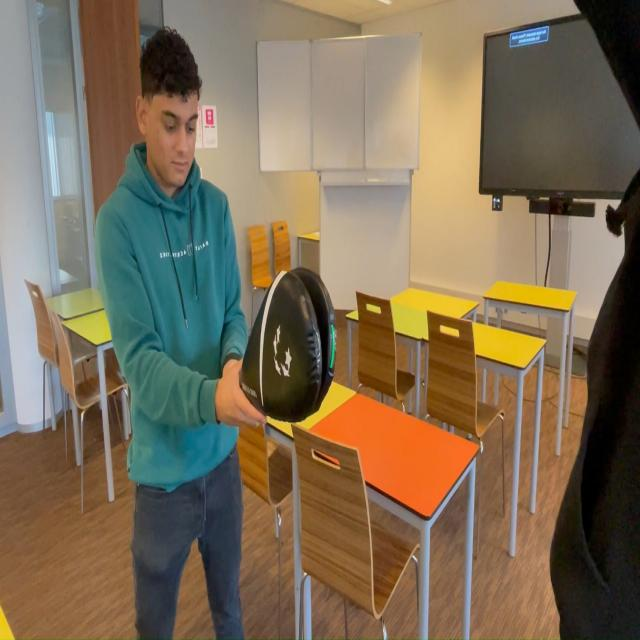paddle: (244, 264, 335, 415)
trigger: (327, 321, 337, 374)
